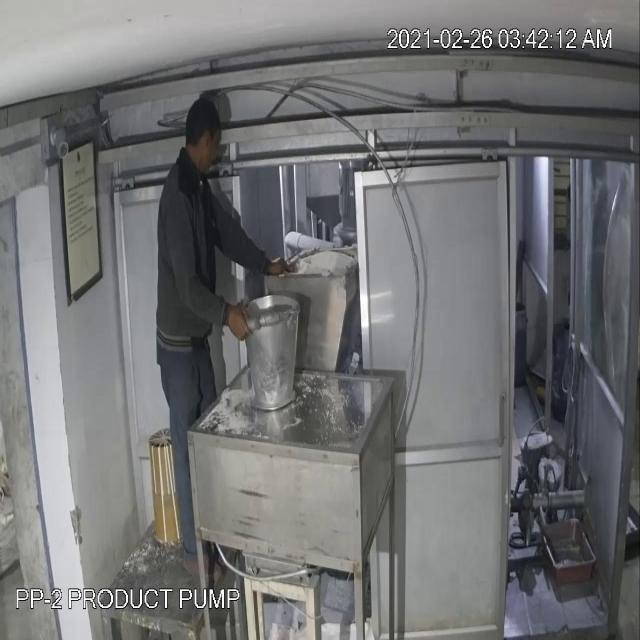no-helmet: (178, 90, 224, 186)
